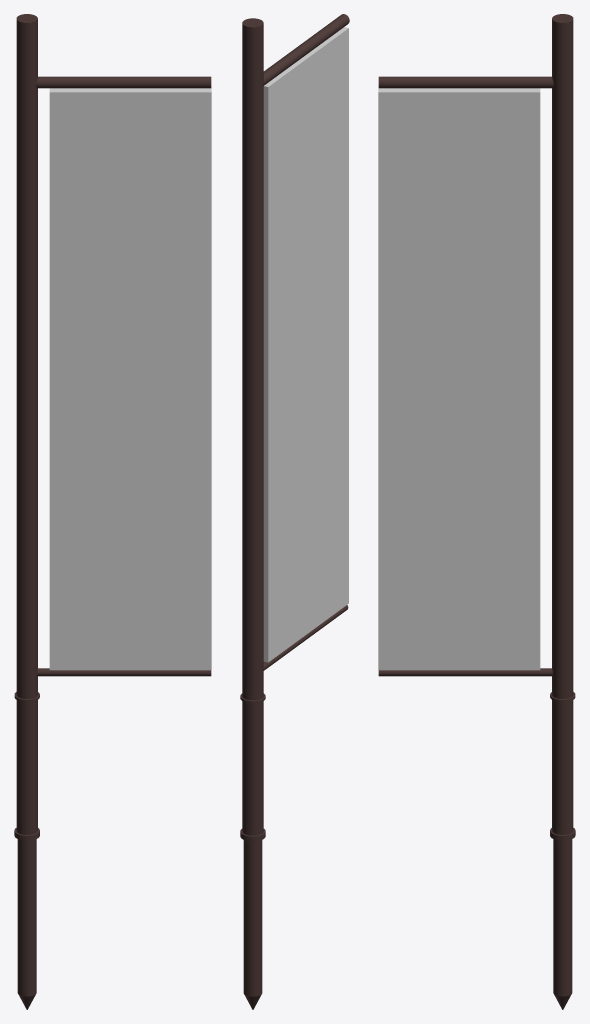
Rendered from Sign.fbx.
3 views of the same model, side by side, from view 1: azimuth 90°, elevation 25°; view 2: azimuth 150°, elevation 25°; view 3: azimuth 270°, elevation 25° (orthographic).
Visible parts, largest first — view 1: Cylinder; view 2: Cylinder; view 3: Cylinder.
Part boxes in pixels (x1,y1,x2,y2): Cylinder: [14, 14, 211, 1009]; Cylinder: [240, 14, 349, 1009]; Cylinder: [378, 14, 575, 1009].
Size of the model in its own units: 31.49 by 1350 by 243.
